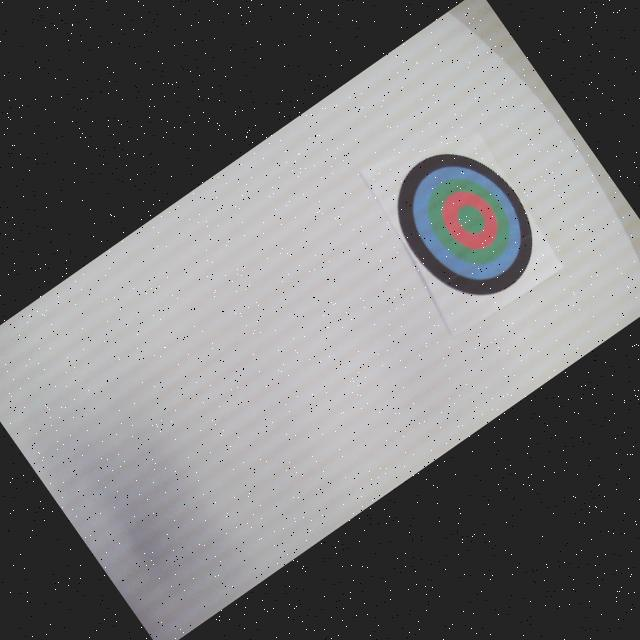COGNITIVE: (372, 126, 558, 320)
